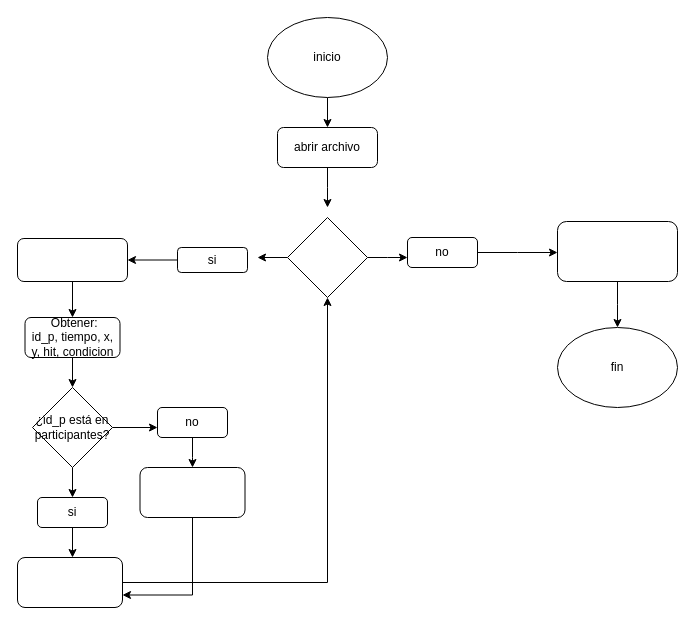
Image size: 695x625. Some labels were removed from this diagram. Here are the shapes that lost their labels. From the top down, the centre of each, then its label:
[72,260]: parsear linea
[327,257]: hay mas lineas?
[617,251]: cierro archivo y creo lista
[192,492]: creo un diccionario del id del participante y sus valores
[69,582]: agregar datos
